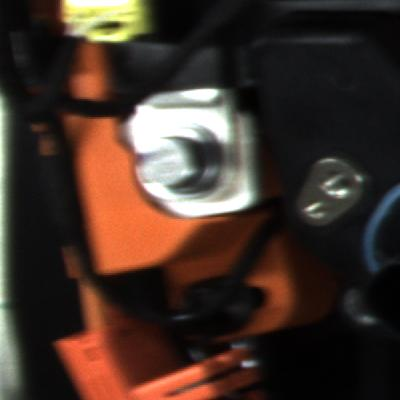nut_b: (131, 116, 242, 205)
